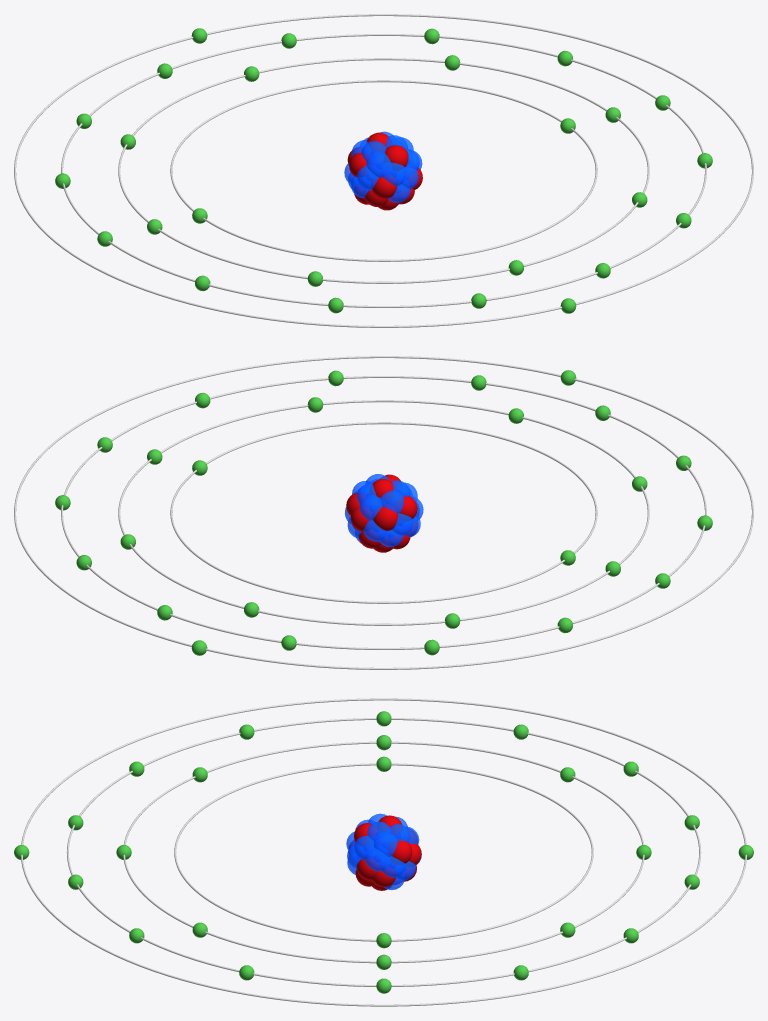
The model's file is Iron.glb.
3 renders of one model, top to bottom at view 1: azimuth 30°, elevation 25°; view 2: azimuth 150°, elevation 25°; view 3: azimuth 270°, elevation 25°, orthographic.
Parts seen in each view (by area): view 1: iron orbital 1.028, calcium orbital 1.019, element_026_iron_nucleus, calcium orbital 1.021, calcium orbital 1.001; view 2: iron orbital 1.028, calcium orbital 1.019, element_026_iron_nucleus, calcium orbital 1.021, calcium orbital 1.001; view 3: iron orbital 1.028, calcium orbital 1.019, element_026_iron_nucleus, calcium orbital 1.021, calcium orbital 1.001.
Boxes of the visible parts, x1,y1,x2,y2 form: iron orbital 1.028: [55, 28, 712, 313]; calcium orbital 1.019: [14, 14, 753, 327]; element_026_iron_nucleus: [344, 131, 422, 210]; calcium orbital 1.021: [118, 55, 649, 286]; calcium orbital 1.001: [170, 80, 597, 261]; iron orbital 1.028: [55, 370, 712, 655]; calcium orbital 1.019: [14, 356, 753, 669]; element_026_iron_nucleus: [344, 474, 423, 552]; calcium orbital 1.021: [118, 397, 649, 628]; calcium orbital 1.001: [170, 422, 597, 603]; iron orbital 1.028: [66, 711, 701, 993]; calcium orbital 1.019: [14, 698, 753, 1006]; element_026_iron_nucleus: [346, 813, 421, 890]; calcium orbital 1.021: [116, 735, 651, 969]; calcium orbital 1.001: [174, 756, 593, 948].
Size of the model in its own units: 1.42 by 0.1503 by 1.45.
